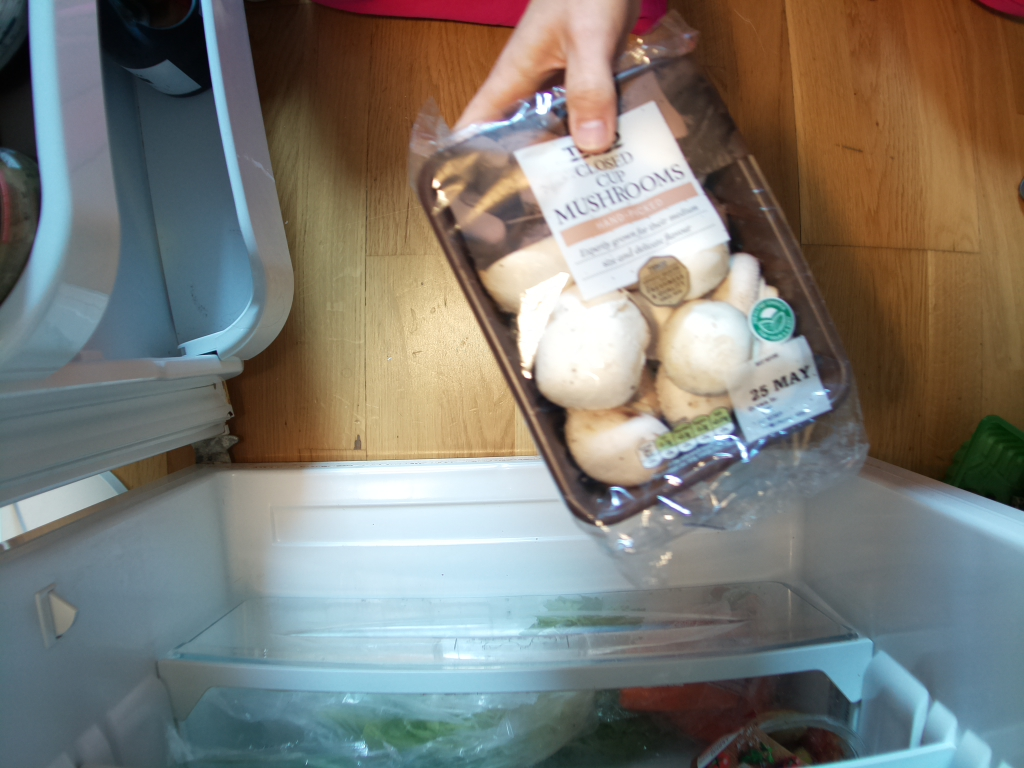mushrooms: (425, 51, 852, 523)
